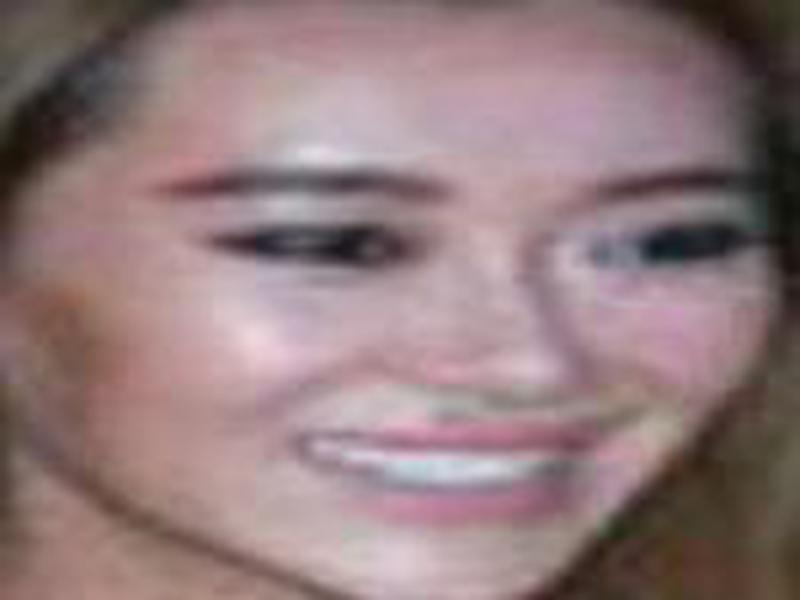without_mask: (25, 21, 782, 597)
